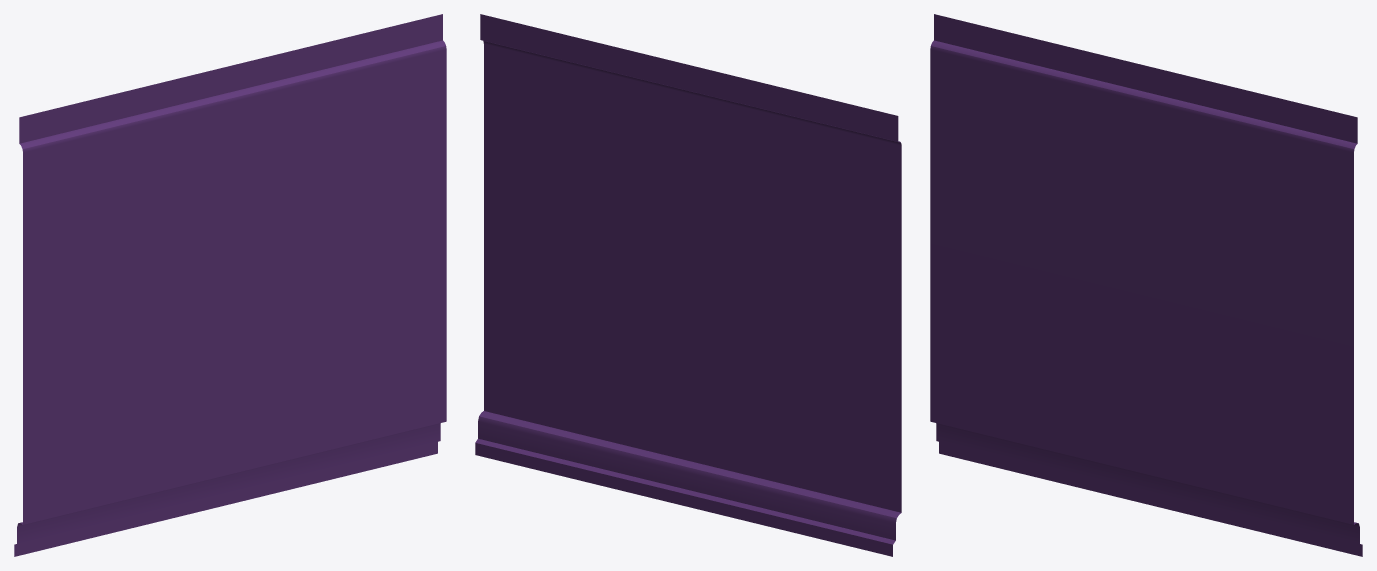
File: Wall.fbx
3 renders of one model, left to right at view 1: azimuth 30°, elevation 25°; view 2: azimuth 150°, elevation 25°; view 3: azimuth 330°, elevation 25°, orthographic.
Visible parts, largest first — view 1: polySurface63; view 2: polySurface63; view 3: polySurface63.
Boxes of the visible parts, x1,y1,x2,y2 form: polySurface63: (14, 14, 446, 556); polySurface63: (475, 14, 901, 556); polySurface63: (930, 14, 1362, 556).
Size of the model in its own units: 750 by 750 by 26.69.
